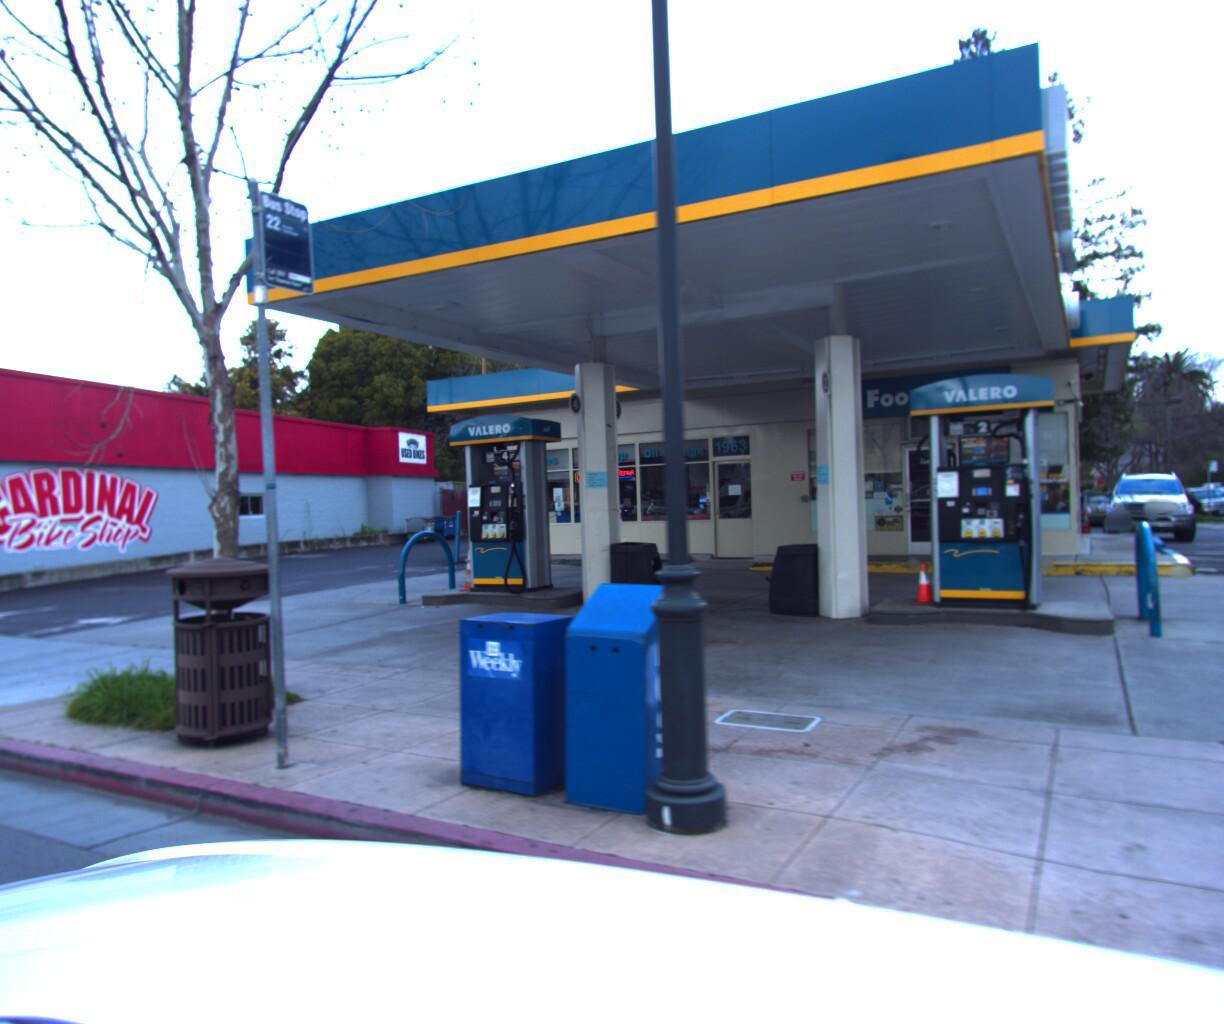car: (1101, 464, 1197, 542), (1054, 486, 1130, 522), (1162, 480, 1224, 518), (1194, 475, 1224, 506), (1223, 479, 1224, 524)
